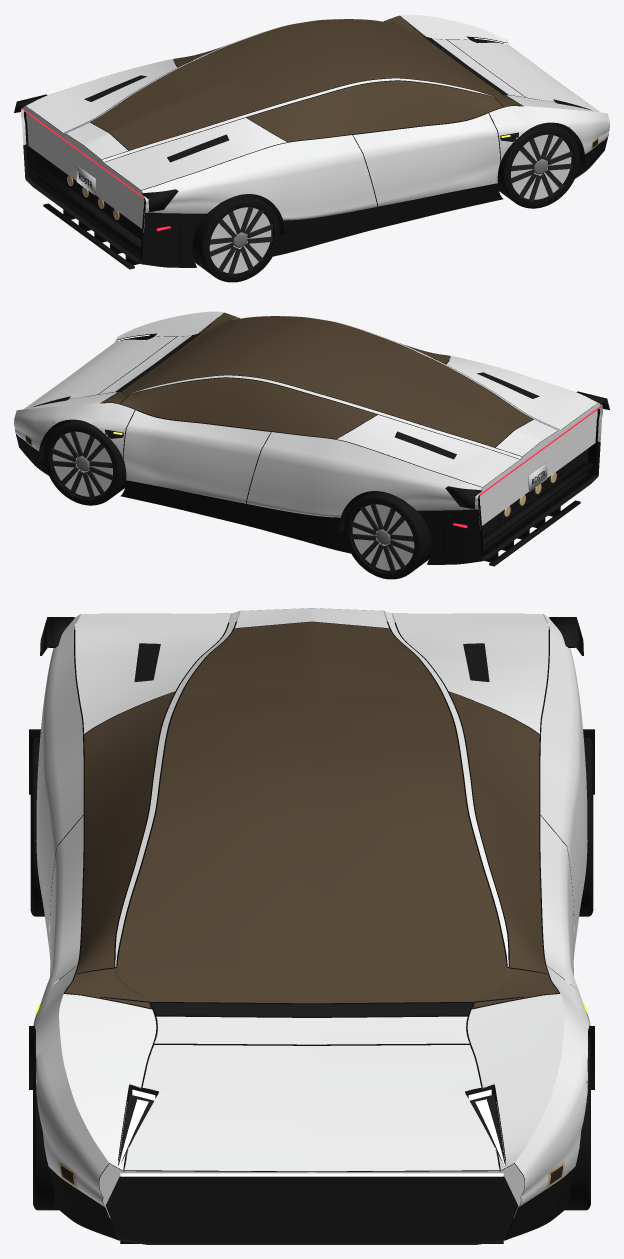
File: roadster.glb
3 views of the same model, one above another, from view 1: azimuth 30°, elevation 25°; view 2: azimuth 150°, elevation 25°; view 3: azimuth 270°, elevation 25° (orthographic). The views are drawn at different scales.
Visible parts, largest first — view 1: Roadster_Paint_PearlWhite, Roadster_Glass_GoldTint, Roadster_Trim_GlossBlack, TailPanel, BodyCore, Roadster_Trim_SatinBlack, Wheel_RR_Tire, Wheel_FR_Tire, Wheel_RR_AeroDisc, Wheel_RR_Spokes, Wheel_FR_Spokes, Wheel_FR_AeroDisc; view 2: Roadster_Paint_PearlWhite, Roadster_Glass_GoldTint, Roadster_Trim_GlossBlack, TailPanel, BodyCore, Roadster_Trim_SatinBlack, Wheel_RL_Tire, Wheel_FL_Tire, Wheel_RL_AeroDisc, Wheel_RL_Spokes, Wheel_FL_Spokes, Wheel_FL_AeroDisc; view 3: Roadster_Glass_GoldTint, Roadster_Paint_PearlWhite, FrontFascia, Roadster_Trim_GlossBlack, BodyCore, Wheel_FL_Tire, Wheel_FR_Tire, Roadster_Lamp_DRL, Wheel_RL_Tire, Wheel_RR_Tire, Roadster_Trim_SatinBlack, Roadster_Lamp_Headlamp (+1 smaller).
Boxes of the visible parts, x1,y1,x2,y2 form: Roadster_Paint_PearlWhite: (26,14,609,220); Roadster_Glass_GoldTint: (90,15,522,150); Roadster_Trim_GlossBlack: (14,36,607,267); TailPanel: (21,106,147,264); BodyCore: (24,20,602,262); Roadster_Trim_SatinBlack: (30,123,604,269); Wheel_RR_Tire: (192,194,279,282); Wheel_FR_Tire: (496,122,579,208); Wheel_RR_AeroDisc: (209,207,271,273); Wheel_RR_Spokes: (209,206,272,275); Wheel_FR_Spokes: (510,134,572,201); Wheel_FR_AeroDisc: (511,134,571,199); Roadster_Paint_PearlWhite: (14,311,597,517); Roadster_Glass_GoldTint: (101,312,533,447); Roadster_Trim_GlossBlack: (16,333,609,564); TailPanel: (476,403,602,561); BodyCore: (21,317,599,559); Roadster_Trim_SatinBlack: (19,420,593,566); Wheel_RL_Tire: (344,491,431,579); Wheel_FL_Tire: (44,419,127,505); Wheel_RL_AeroDisc: (352,504,414,570); Wheel_RL_Spokes: (351,503,414,572); Wheel_FL_Spokes: (51,431,113,498); Wheel_FL_AeroDisc: (52,431,112,496); Roadster_Glass_GoldTint: (65,622,558,1008); Roadster_Paint_PearlWhite: (33,608,590,1206); FrontFascia: (99,1163,524,1244); Roadster_Trim_GlossBlack: (33,617,590,1239); BodyCore: (51,621,572,1235); Wheel_FL_Tire: (557,1034,590,1210); Wheel_FR_Tire: (33,1034,66,1210); Roadster_Lamp_DRL: (118,1102,505,1176); Wheel_RL_Tire: (572,737,593,916); Wheel_RR_Tire: (30,737,51,916); Roadster_Trim_SatinBlack: (29,729,594,1243); Roadster_Lamp_Headlamp: (119,1089,504,1164).
Size of the model in its own units: 4.58 by 1.36 by 2.36.
